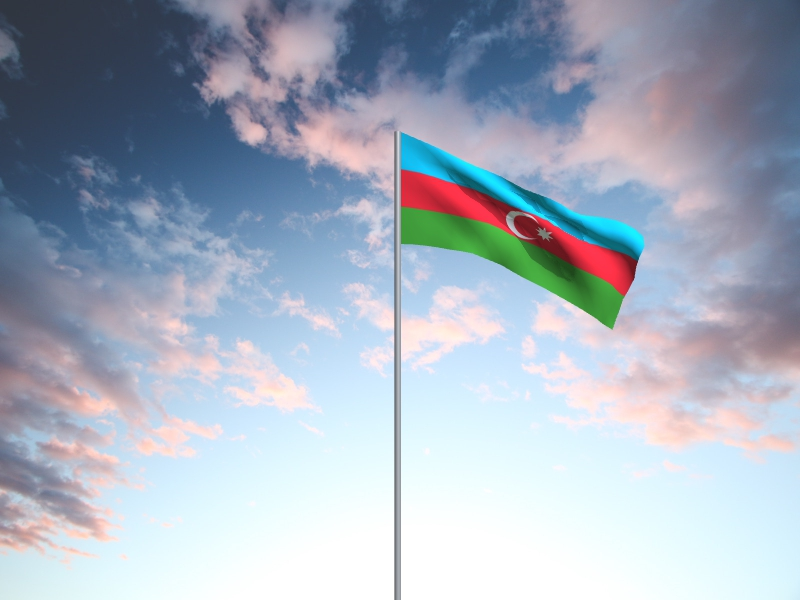az: (402, 133, 647, 334)
